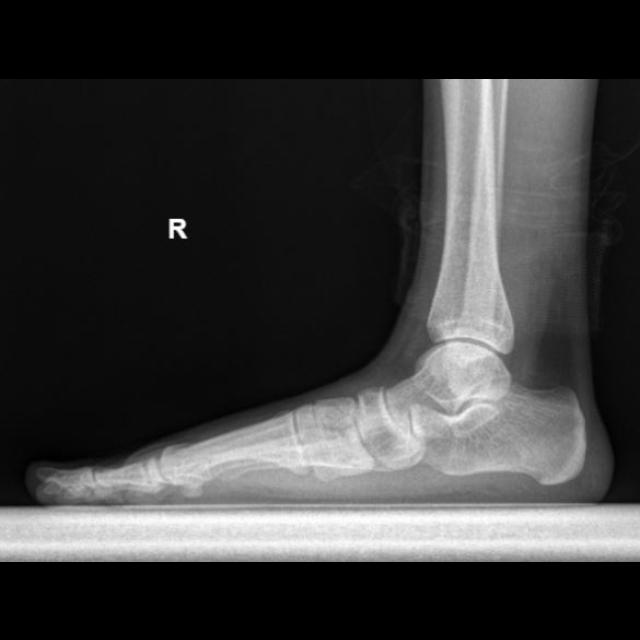a: (414, 378, 584, 483)
b: (360, 387, 425, 469)
c: (165, 410, 311, 489)
